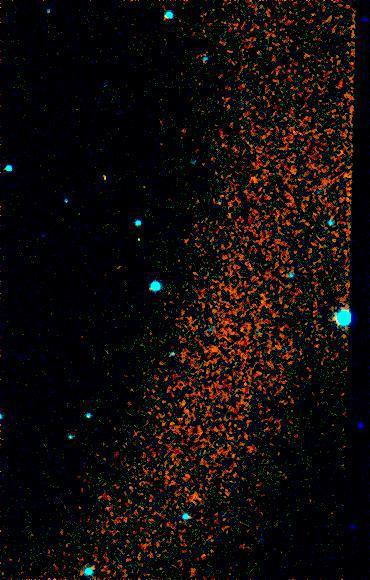star: (199, 333, 229, 363)
